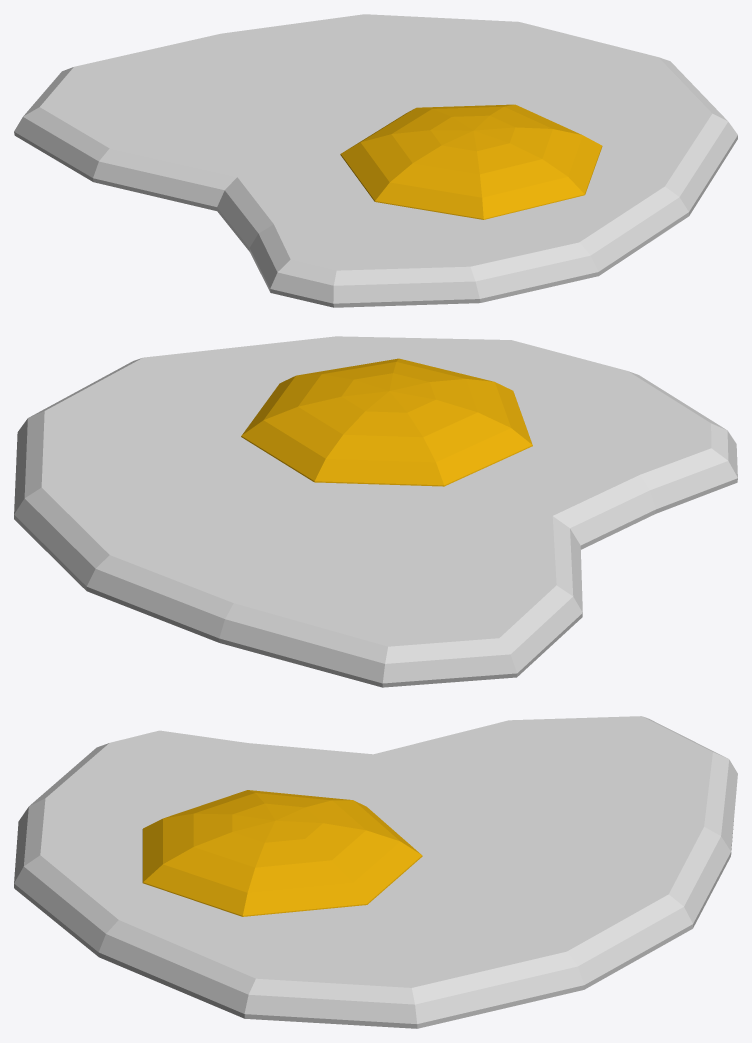
Rendered from Egg.fbx.
3 views of the same model, one above another, from view 1: azimuth 30°, elevation 25°; view 2: azimuth 150°, elevation 25°; view 3: azimuth 270°, elevation 25° (orthographic). The views are drawn at different scales.
Visible parts, largest first — view 1: Sphere; view 2: Sphere; view 3: Sphere.
Boxes of the visible parts, x1=… form: Sphere: x1=14, y1=14, x2=737, y2=307; Sphere: x1=14, y1=336, x2=737, y2=687; Sphere: x1=14, y1=716, x2=737, y2=1028.
Size of the model in its own units: 195 by 20.58 by 202.
